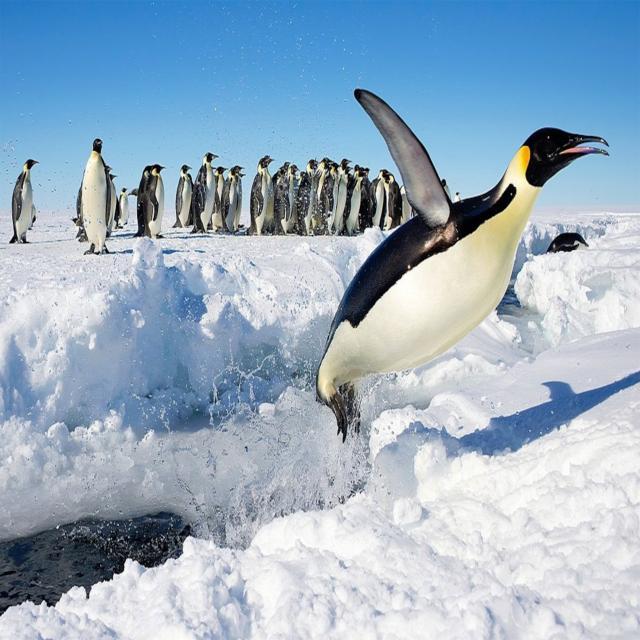penguin: (315, 89, 608, 441)
